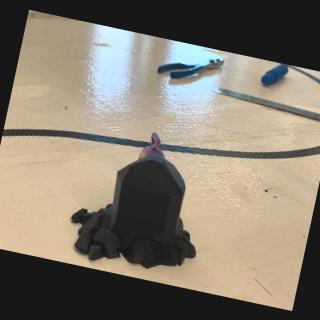teletubby: (138, 132, 164, 159)
